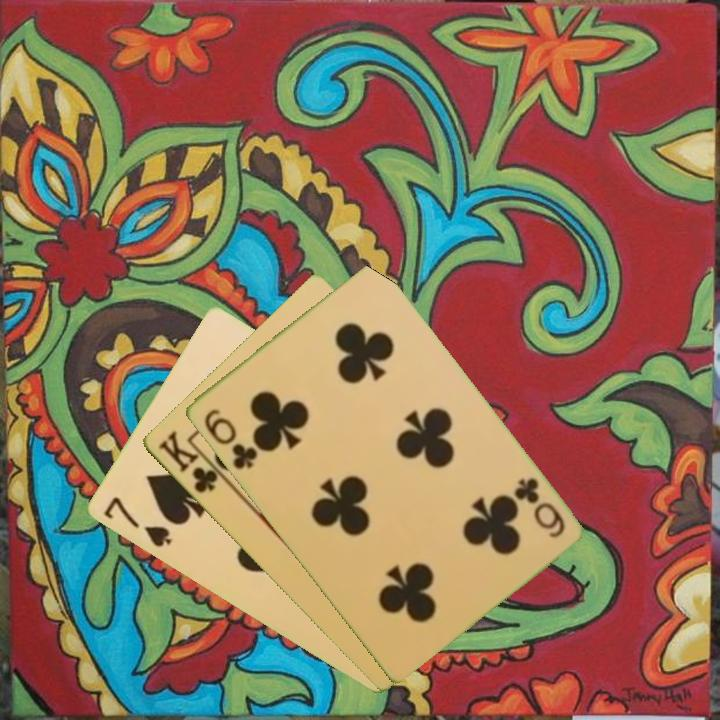6c: (199, 405, 260, 473), (509, 474, 567, 541)
7s: (99, 493, 174, 551)
Kc: (154, 426, 230, 496)
